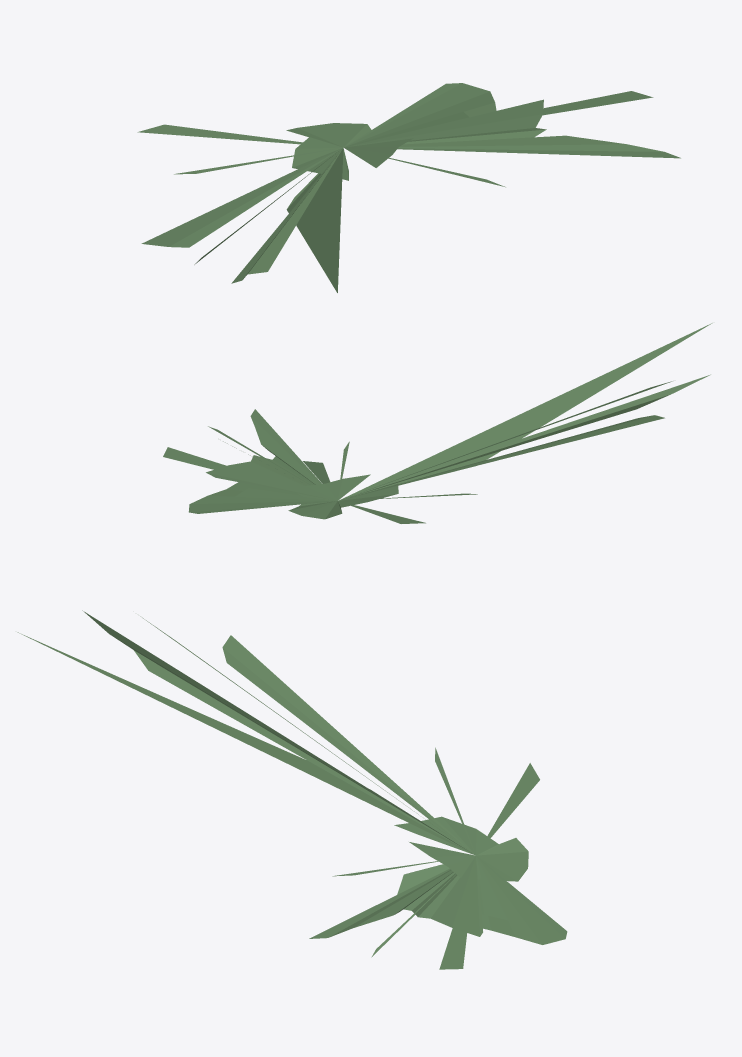
File: c_1669_17831_forest.glb
3 views of the same model, one above another, from view 1: azimuth 30°, elevation 25°; view 2: azimuth 150°, elevation 25°; view 3: azimuth 270°, elevation 25° (orthographic). The views are drawn at different scales.
Parts seen in each view (by area): view 1: geometry_0; view 2: geometry_0; view 3: geometry_0.
Boxes of the visible parts, x1,y1,x2,y2 form: geometry_0: (137,83,680,292); geometry_0: (163,323,712,523); geometry_0: (17,610,567,969).
Size of the model in its own units: 515 by 110 by 514.
